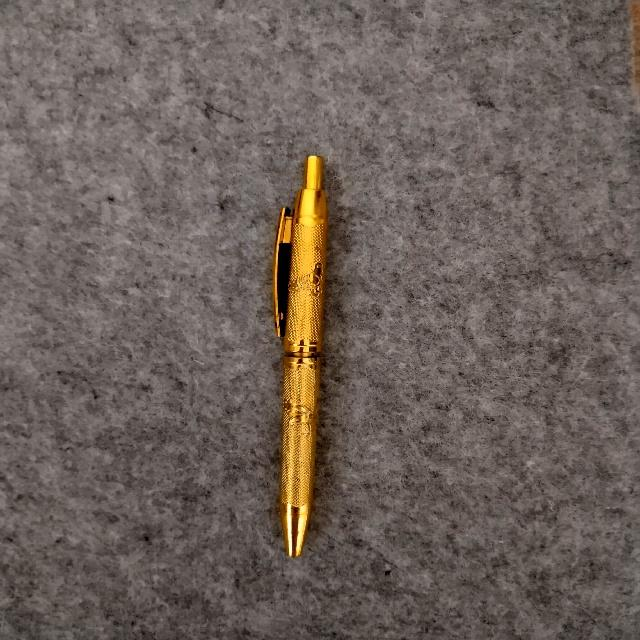signature pen: (274, 156, 326, 556)
